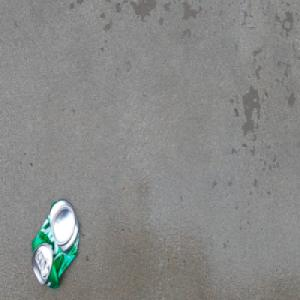SodaCan: (29, 197, 80, 291)
